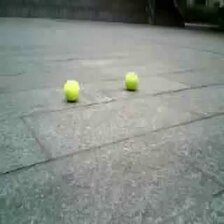tennis: (63, 79, 78, 99), (124, 73, 140, 88)
